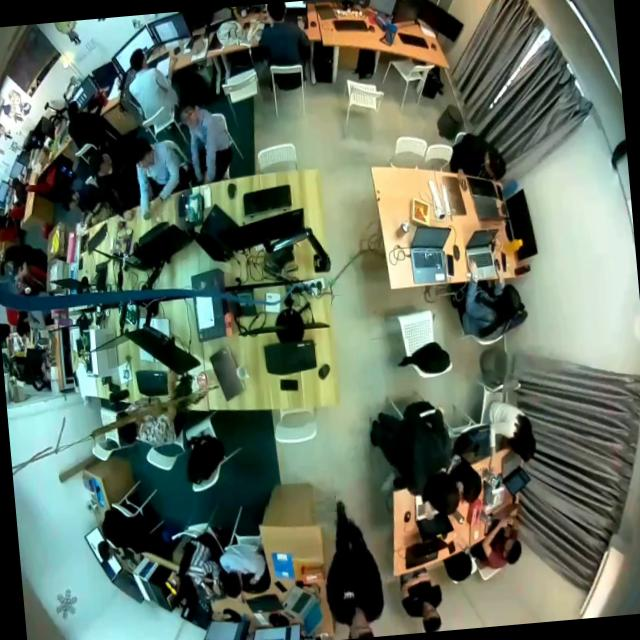employee_tag: (341, 588, 356, 600)
